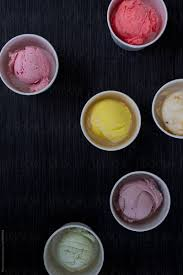ice-cream: (113, 1, 162, 44), (88, 99, 132, 145), (56, 231, 98, 273), (118, 181, 162, 221), (9, 46, 50, 88), (161, 90, 183, 139)
